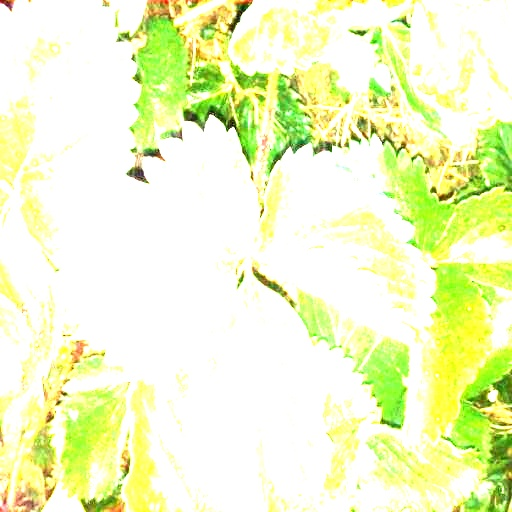Leaf Spot: (51, 113, 262, 386), (252, 142, 438, 350), (0, 0, 144, 259), (182, 268, 335, 511), (399, 267, 496, 452), (407, 0, 511, 148), (119, 365, 224, 511), (301, 339, 383, 511), (351, 424, 488, 511), (424, 186, 511, 293)
